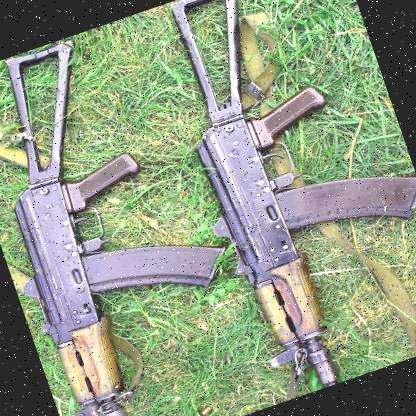rifle: (0, 19, 276, 416), (145, 0, 416, 403)
